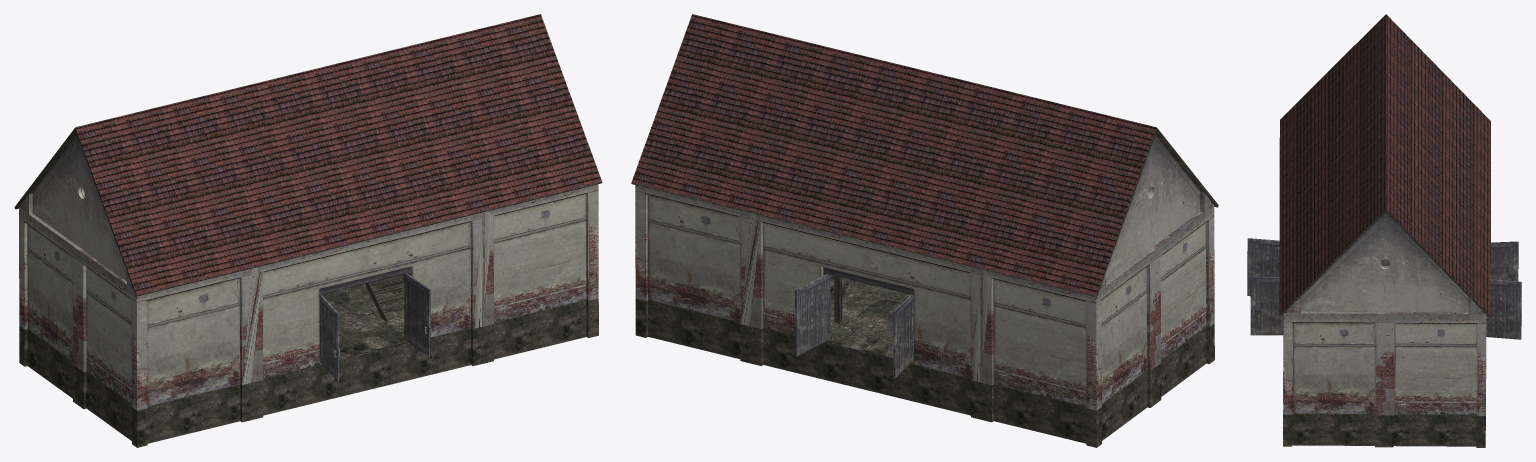
Rendered from hat.fbx.
3 renders of one model, left to right at view 1: azimuth 30°, elevation 25°; view 2: azimuth 150°, elevation 25°; view 3: azimuth 270°, elevation 25°, orthographic. The views are drawn at different scales.
Parts seen in each view (by area): view 1: hat; view 2: hat; view 3: hat.
Boxes of the visible parts, bbox=[...] form: hat: bbox=[14, 14, 602, 447]; hat: bbox=[631, 14, 1218, 447]; hat: bbox=[1247, 14, 1521, 447].
Size of the model in its own units: 147 by 84.21 by 87.43.
Materials: 7 (7 with a texture image).
